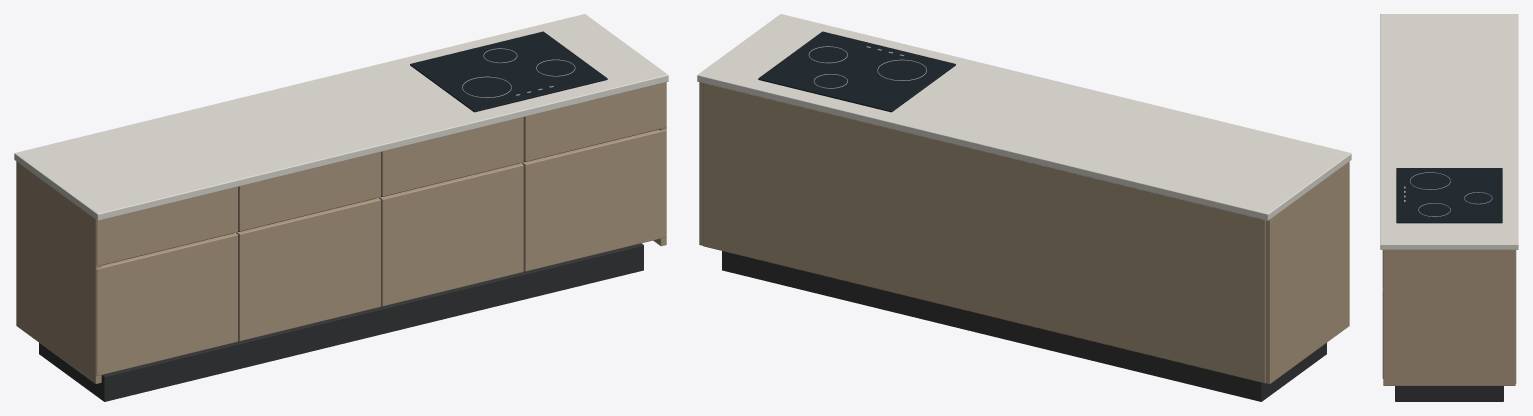
File: original-kitchen-cooking.glb
The picture shows the model from 3 angles, left to right: view 1: azimuth 30°, elevation 25°; view 2: azimuth 150°, elevation 25°; view 3: azimuth 270°, elevation 25°; orthographic projection. The views are drawn at different scales.
Parts seen in each view (by area): view 1: original-kitchen-cooking; view 2: original-kitchen-cooking; view 3: original-kitchen-cooking.
Boxes of the visible parts, <box> form: original-kitchen-cooking: <box>14,14,668,401</box>; original-kitchen-cooking: <box>697,14,1351,401</box>; original-kitchen-cooking: <box>1380,14,1518,401</box>.
Bounding box in the file's own units: 2.56 × 0.8614 × 0.65.
